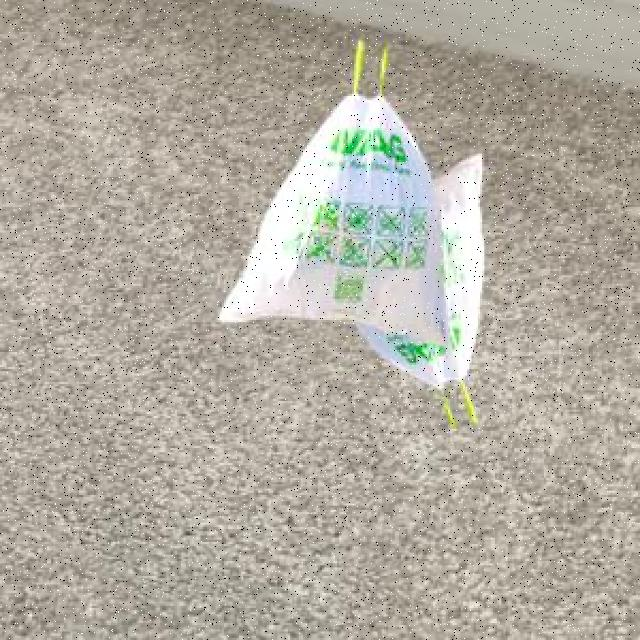plastic_bag: (216, 88, 487, 390)
